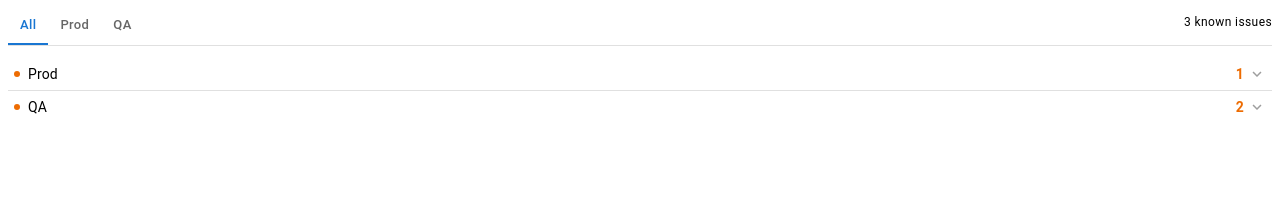
Scenario: KnownIssuesPanel › expands the case list when a non-zero cell is clicked
Expected: the text "SAP-1" is not shown
What coordinates should you click on to do the following:
click the button with aria-label "QA:"
I would click on:
 (17, 107)
Its box is [8, 91, 1272, 123].
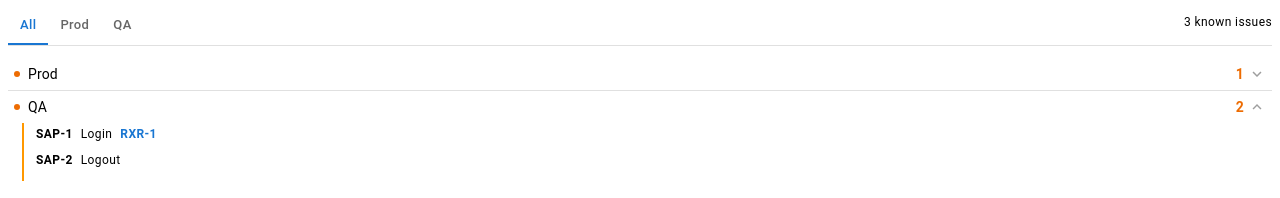
Result: the text "SAP-1" is shown at [36, 125, 73, 145]
Result: the text "Login" is shown at [81, 125, 112, 145]
